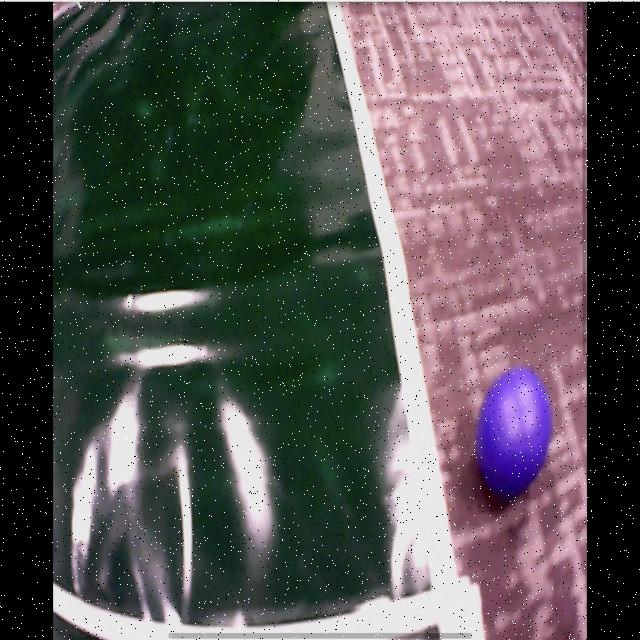ball: (478, 367, 550, 491)
